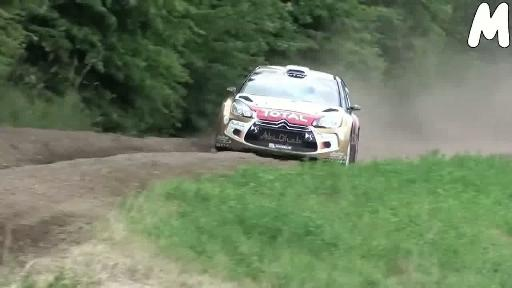CAR: (207, 53, 385, 173)
